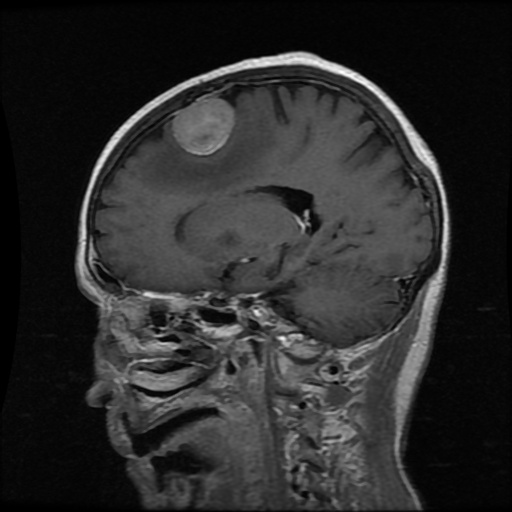meningioma: (173, 99, 233, 153)
